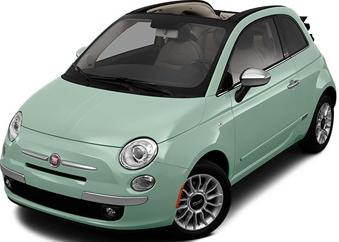front_view: (5, 109, 166, 221)
headlight: (113, 134, 168, 180)
side_glass: (233, 21, 294, 81)
